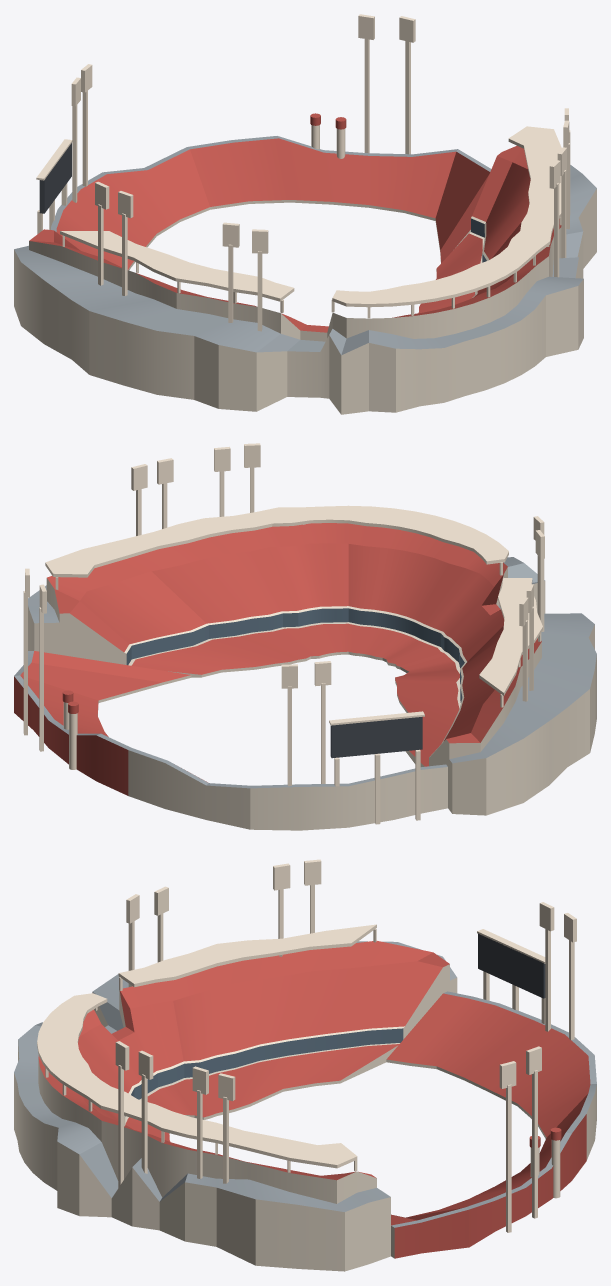
The model's file is cin-great-american-ball-park.glb.
The picture shows the model from 3 angles, top to bottom: view 1: azimuth 30°, elevation 25°; view 2: azimuth 150°, elevation 25°; view 3: azimuth 270°, elevation 25°; orthographic projection. The views are drawn at different scales.
Parts seen in each view (by area): view 1: Great American Ball Park; view 2: Great American Ball Park; view 3: Great American Ball Park.
Part boxes in pixels (<box>): Great American Ball Park: <box>14,14,596,414</box>; Great American Ball Park: <box>14,443,596,830</box>; Great American Ball Park: <box>14,859,596,1271</box>.
Bounding box in the file's own units: 238 × 70.6 × 223.
